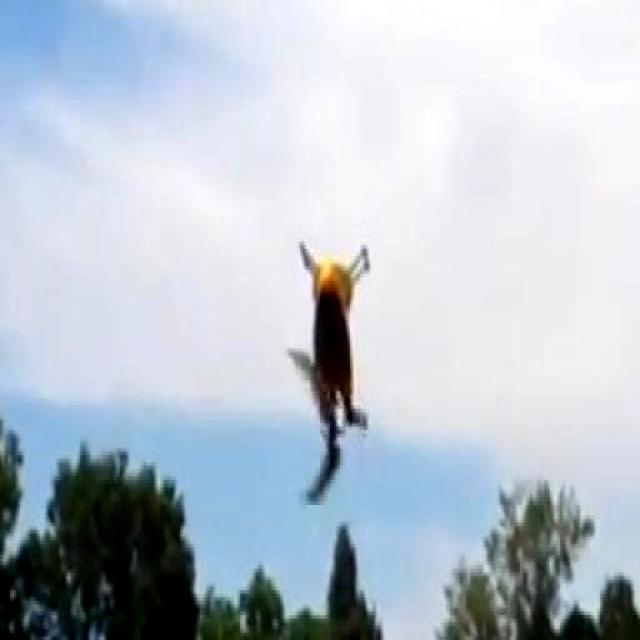drone: (286, 244, 378, 512)
